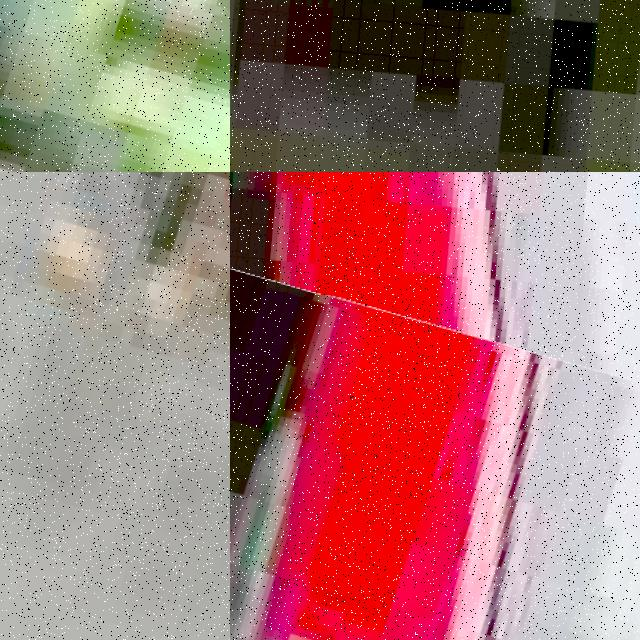drone: (230, 277, 640, 640), (0, 172, 230, 640), (0, 0, 230, 172)
